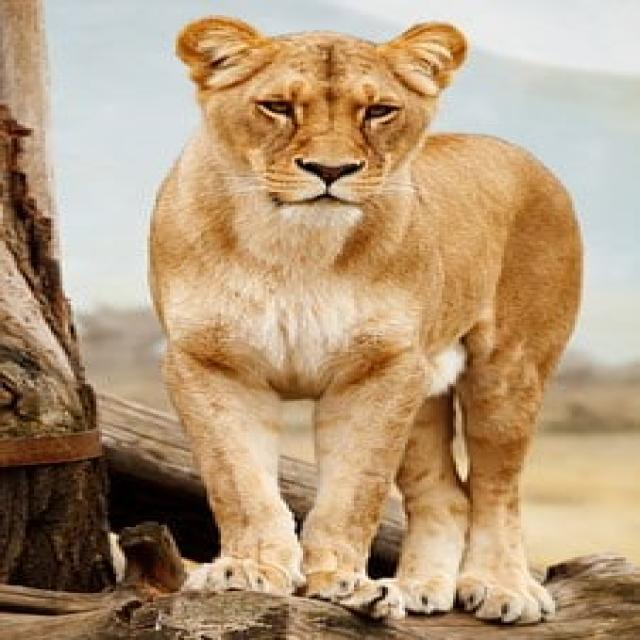Lion: (147, 17, 581, 621)
